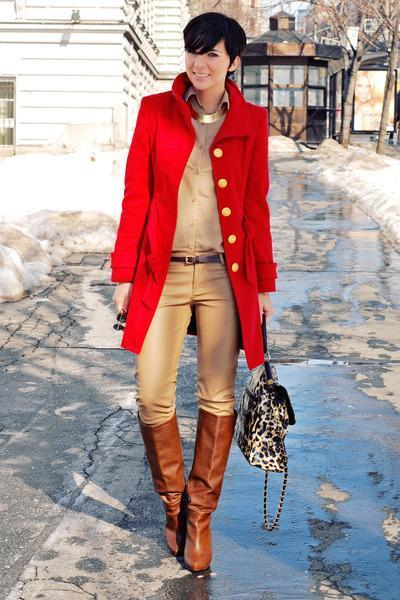bag: (232, 372, 294, 446)
jacket: (111, 72, 276, 368)
pants: (135, 244, 233, 426)
shirt: (172, 115, 226, 251)
shoe: (138, 408, 233, 575)
